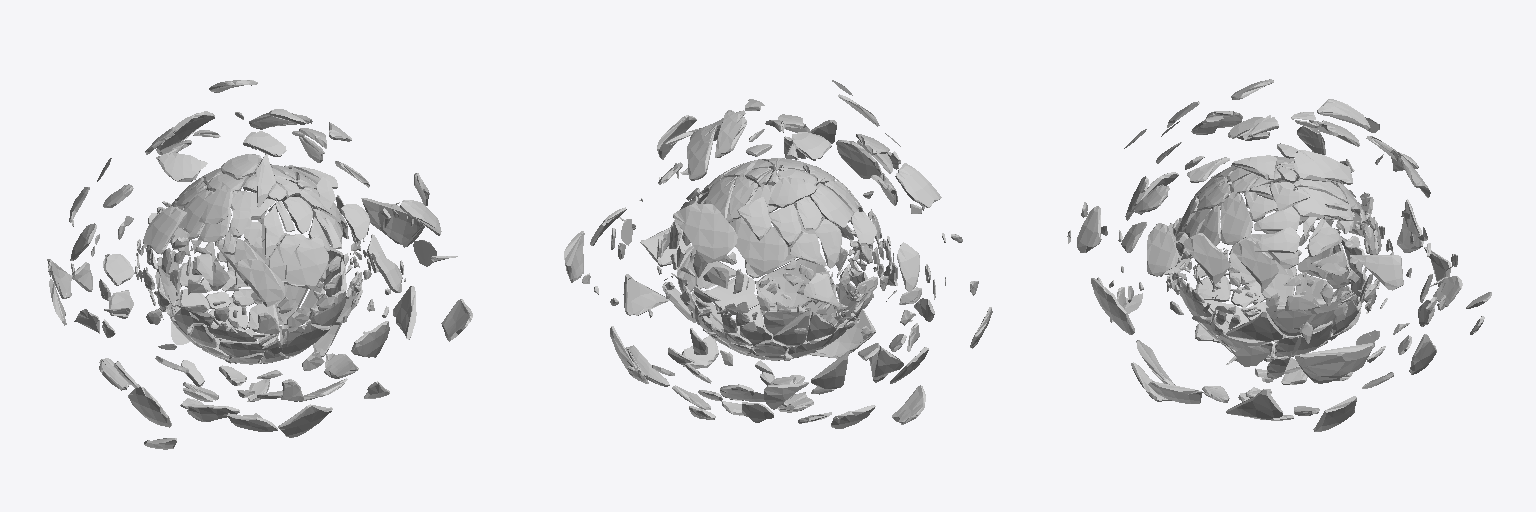
The model's file is explosion.obj.
3 views of the same model, side by side, from view 1: azimuth 30°, elevation 25°; view 2: azimuth 150°, elevation 25°; view 3: azimuth 270°, elevation 25° (orthographic).
Visible parts, largest first — view 1: Sphere_cell.109_Mesh.578, Sphere_cell.141_Mesh.609, Sphere_cell.159_Mesh.627, Sphere_cell.125_Mesh.593, Sphere_cell.117_Mesh.586, Sphere_cell.149_Mesh.617, Sphere_cell.126_Mesh.594, Sphere_cell.157_Mesh.625, Sphere_cell.137_Mesh.605, Sphere_cell.060_Mesh.160, Sphere_cell.054_Mesh.058, Sphere_cell.085_Mesh.179 (+19 smaller); view 2: Sphere_cell.128_Mesh.596, Sphere_cell.056_Mesh.156, Sphere_cell.031_Mesh.131, Sphere_cell.145_Mesh.613, Sphere_cell.054_Mesh.058, Sphere_cell.125_Mesh.593, Sphere_cell.149_Mesh.617, Sphere_cell.109_Mesh.578, Sphere_cell.060_Mesh.160, Sphere_cell.131_Mesh.599, Sphere_cell.036_Mesh.136, Sphere_cell.110_Mesh.579 (+21 smaller); view 3: Sphere_cell.141_Mesh.609, Sphere_cell.145_Mesh.613, Sphere_cell.122_Mesh.590, Sphere_cell.063_Mesh.163, Sphere_cell.049_Mesh.057, Sphere_cell.035_Mesh.135, Sphere_cell.096_Mesh.190, Sphere_cell.163_Mesh.631, Sphere_cell.054_Mesh.058, Sphere_cell.095_Mesh.189, Sphere_cell.137_Mesh.605, Sphere_cell.039_Mesh.139 (+20 smaller).
Boxes of the visible parts, <box> form: Sphere_cell.109_Mesh.578: <box>285,237,328,289</box>; Sphere_cell.141_Mesh.609: <box>361,198,424,247</box>; Sphere_cell.159_Mesh.627: <box>235,259,284,306</box>; Sphere_cell.125_Mesh.593: <box>143,206,186,254</box>; Sphere_cell.117_Mesh.586: <box>156,153,207,181</box>; Sphere_cell.149_Mesh.617: <box>278,404,332,437</box>; Sphere_cell.126_Mesh.594: <box>128,387,171,427</box>; Sphere_cell.157_Mesh.625: <box>199,182,232,223</box>; Sphere_cell.137_Mesh.605: <box>351,321,389,357</box>; Sphere_cell.060_Mesh.160: <box>179,190,214,237</box>; Sphere_cell.054_Mesh.058: <box>393,286,416,339</box>; Sphere_cell.085_Mesh.179: <box>268,234,305,286</box>; Sphere_cell.128_Mesh.596: <box>673,203,737,262</box>; Sphere_cell.056_Mesh.156: <box>729,217,787,275</box>; Sphere_cell.031_Mesh.131: <box>755,259,833,308</box>; Sphere_cell.145_Mesh.613: <box>687,125,716,180</box>; Sphere_cell.054_Mesh.058: <box>623,274,669,315</box>; Sphere_cell.125_Mesh.593: <box>895,163,941,207</box>; Sphere_cell.149_Mesh.617: <box>810,309,875,358</box>; Sphere_cell.109_Mesh.578: <box>836,140,881,178</box>; Sphere_cell.060_Mesh.160: <box>810,183,852,227</box>; Sphere_cell.131_Mesh.599: <box>768,177,816,207</box>; Sphere_cell.036_Mesh.136: <box>705,274,758,314</box>; Sphere_cell.110_Mesh.579: <box>715,110,746,157</box>; Sphere_cell.141_Mesh.609: <box>1295,343,1373,383</box>; Sphere_cell.145_Mesh.613: <box>1294,149,1352,184</box>; Sphere_cell.122_Mesh.590: <box>1147,223,1178,276</box>; Sphere_cell.063_Mesh.163: <box>1221,192,1252,244</box>; Sphere_cell.049_Mesh.057: <box>1183,233,1230,283</box>; Sphere_cell.035_Mesh.135: <box>1294,187,1352,220</box>; Sphere_cell.096_Mesh.190: <box>1232,238,1278,288</box>; Sphere_cell.163_Mesh.631: <box>1356,255,1403,290</box>; Sphere_cell.054_Mesh.058: <box>1226,389,1282,419</box>; Sphere_cell.095_Mesh.189: <box>1226,311,1282,341</box>; Sphere_cell.137_Mesh.605: <box>1091,278,1134,334</box>; Sphere_cell.039_Mesh.139: <box>1266,296,1344,335</box>.
Bounding box in the file's own units: 28.37 × 23.66 × 29.11.